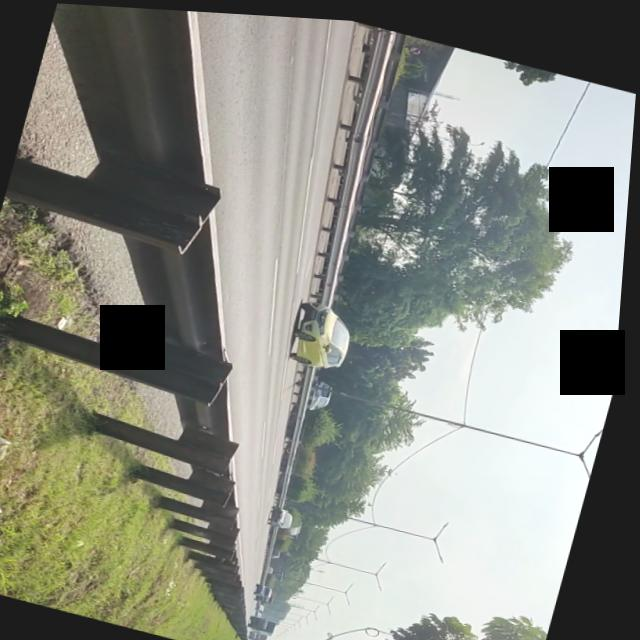Golongan I: (284, 291, 371, 375)
